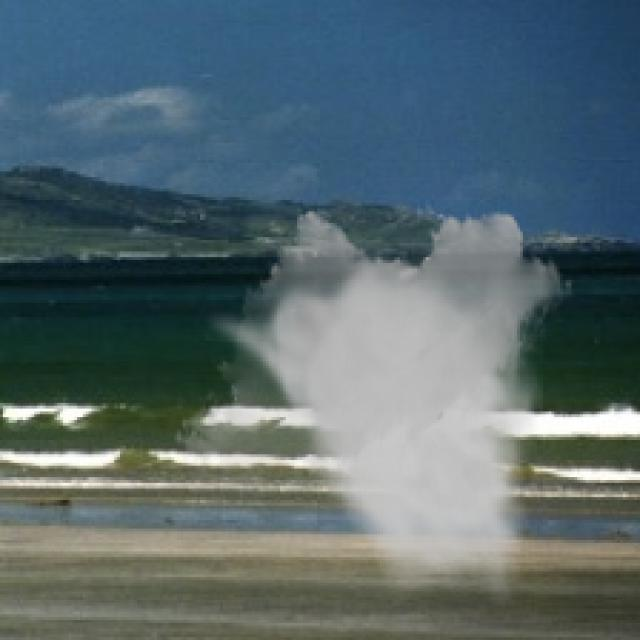Smoke: (172, 200, 574, 606)
